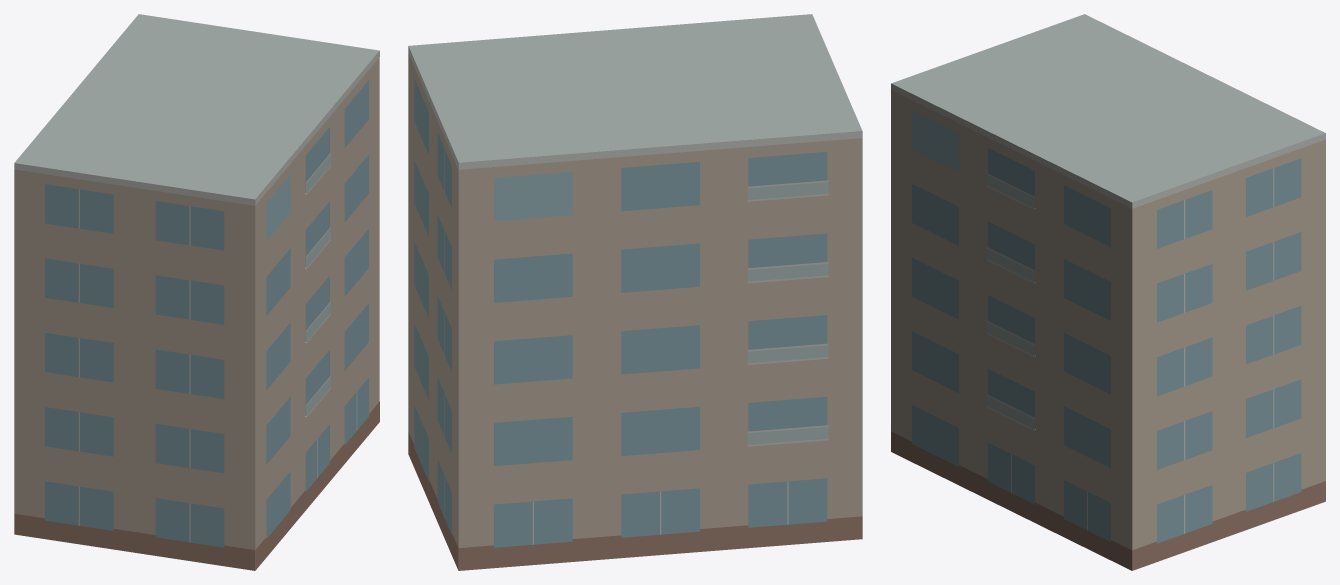
The model's file is survey-upis-32631880.glb.
3 renders of one model, left to right at view 1: azimuth 30°, elevation 25°; view 2: azimuth 150°, elevation 25°; view 3: azimuth 270°, elevation 25°, orthographic. The views are drawn at different scales.
Parts seen in each view (by area): view 1: survey-upis-32631880.tmp; view 2: survey-upis-32631880.tmp; view 3: survey-upis-32631880.tmp.
Boxes of the visible parts, <box> form: survey-upis-32631880.tmp: <box>14,14,379,570</box>; survey-upis-32631880.tmp: <box>408,14,862,570</box>; survey-upis-32631880.tmp: <box>891,14,1325,570</box>.
Size of the model in its own units: 15.48 by 14.1 by 15.09.
